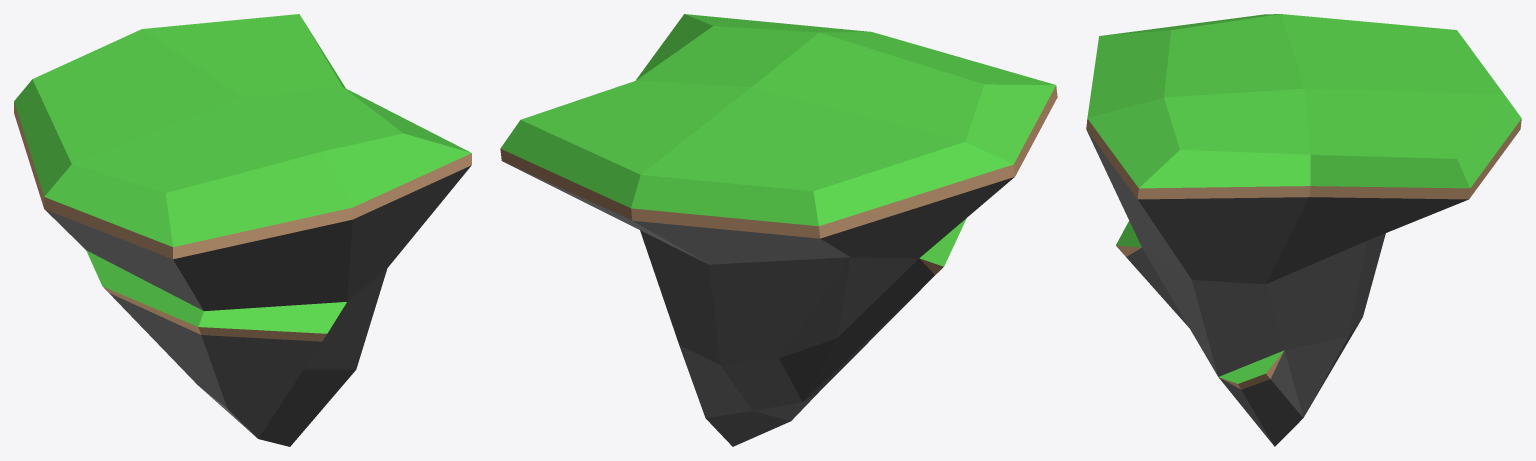
The model's file is SmallIsland1.fbx.
3 views of the same model, side by side, from view 1: azimuth 30°, elevation 25°; view 2: azimuth 150°, elevation 25°; view 3: azimuth 270°, elevation 25° (orthographic). The views are drawn at different scales.
Visible parts, largest first — view 1: SmallIsland; view 2: SmallIsland; view 3: SmallIsland.
Part boxes in pixels (<box>): SmallIsland: <box>14,14,471,446</box>; SmallIsland: <box>500,14,1057,446</box>; SmallIsland: <box>1086,14,1521,446</box>.
Size of the model in its own units: 690 by 627 by 722.
